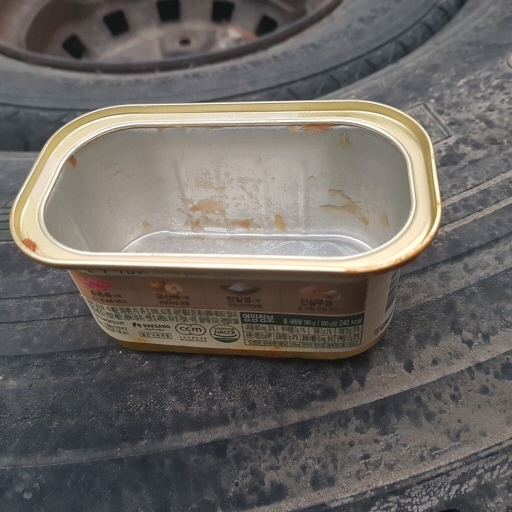Metal_2: (11, 103, 445, 357)
